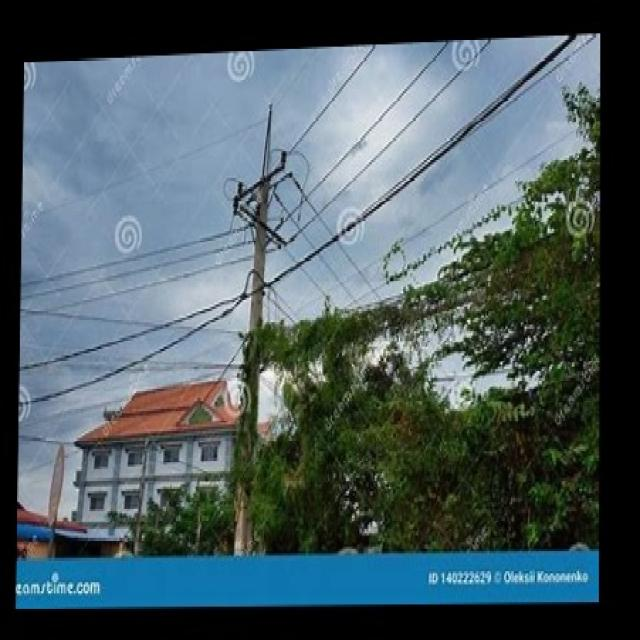critical vegetation: (262, 246, 598, 422)
